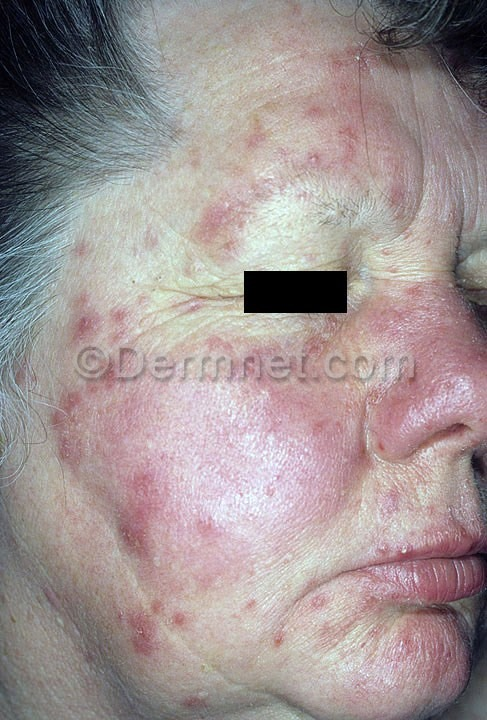Acne: (60, 60, 479, 668)
